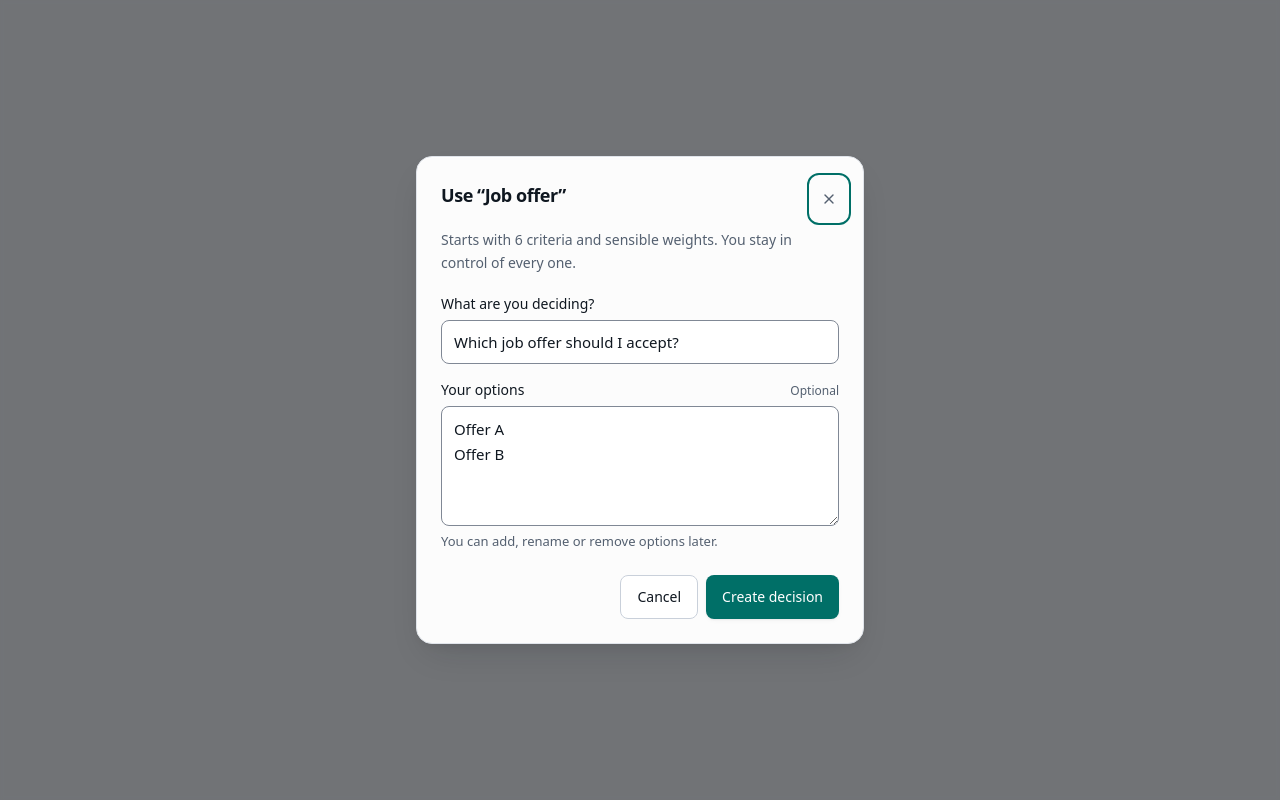
Test: UseTemplateDialog › shows a server validation message next to the options field
Click the button "Create decision". click: click(772, 597)
box: x1=706 y1=575 x2=839 y2=619
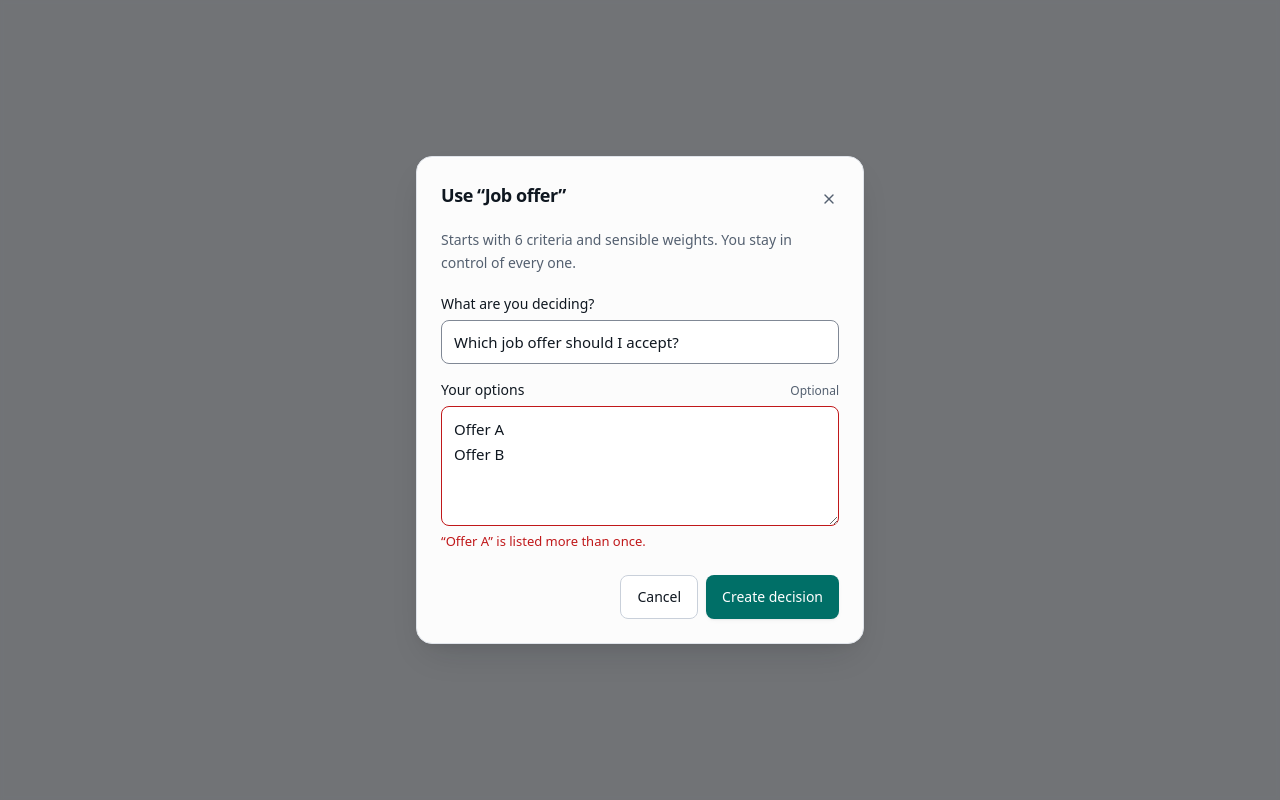
Check: the text "“Offer A” is listed more than once." is shown, box x1=441 y1=532 x2=646 y2=550
